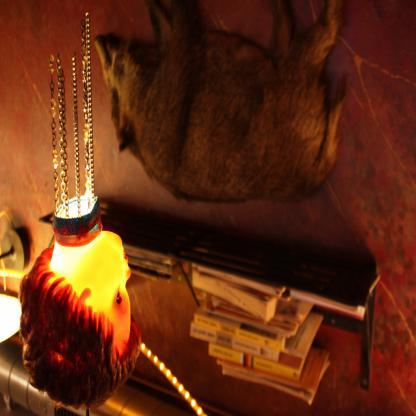boar: (93, 0, 351, 206)
